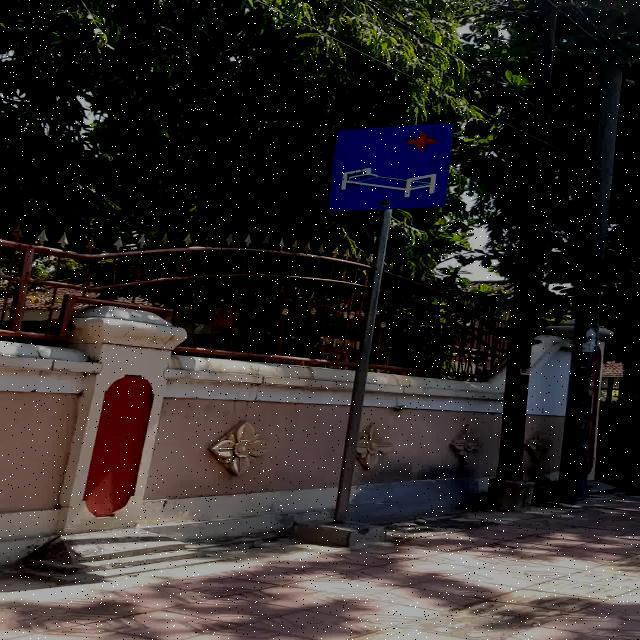Rumah Sakit: (328, 122, 452, 212)
